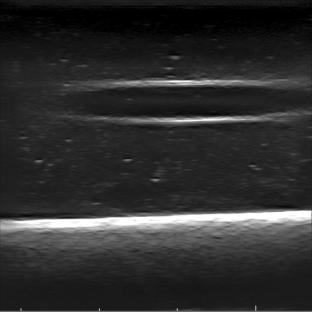vessel: (60, 77, 307, 125)
